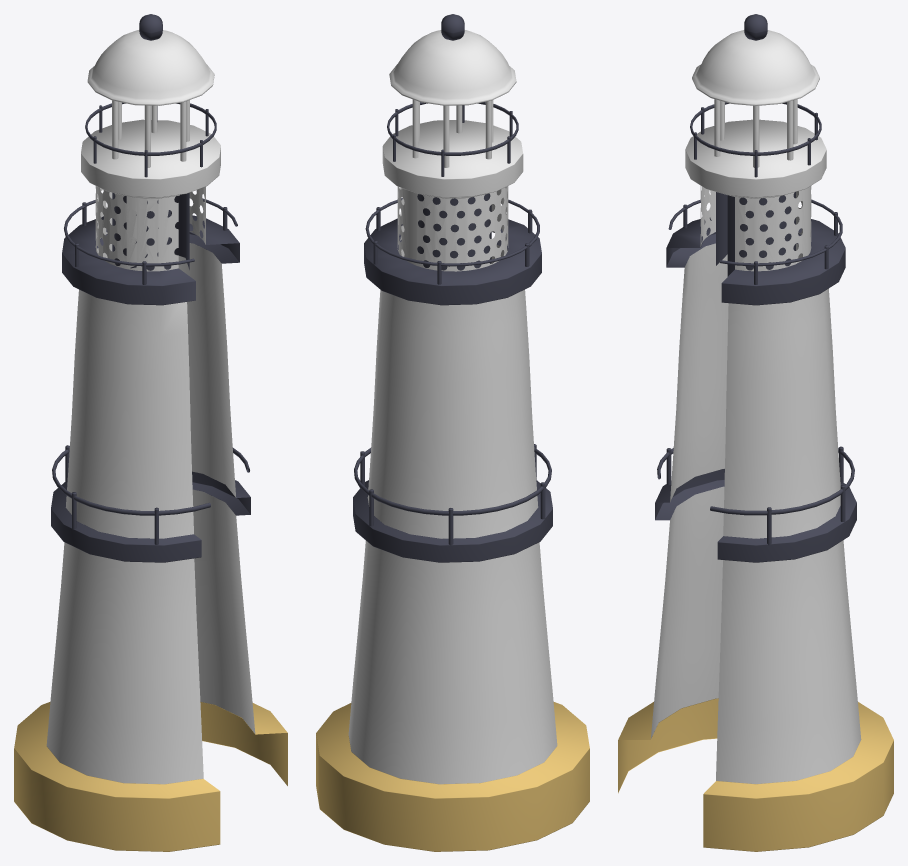
The model's file is Lighthouse.fbx.
3 views of the same model, side by side, from view 1: azimuth 30°, elevation 25°; view 2: azimuth 150°, elevation 25°; view 3: azimuth 270°, elevation 25° (orthographic).
Parts seen in each view (by area): view 1: Lighthouse.003; view 2: Lighthouse.003; view 3: Lighthouse.003.
Boxes of the visible parts, <box> form: Lighthouse.003: <box>14,14,287,851</box>; Lighthouse.003: <box>316,14,589,851</box>; Lighthouse.003: <box>618,14,893,851</box>.
Bounding box in the file's own units: 187 × 583 × 187.
